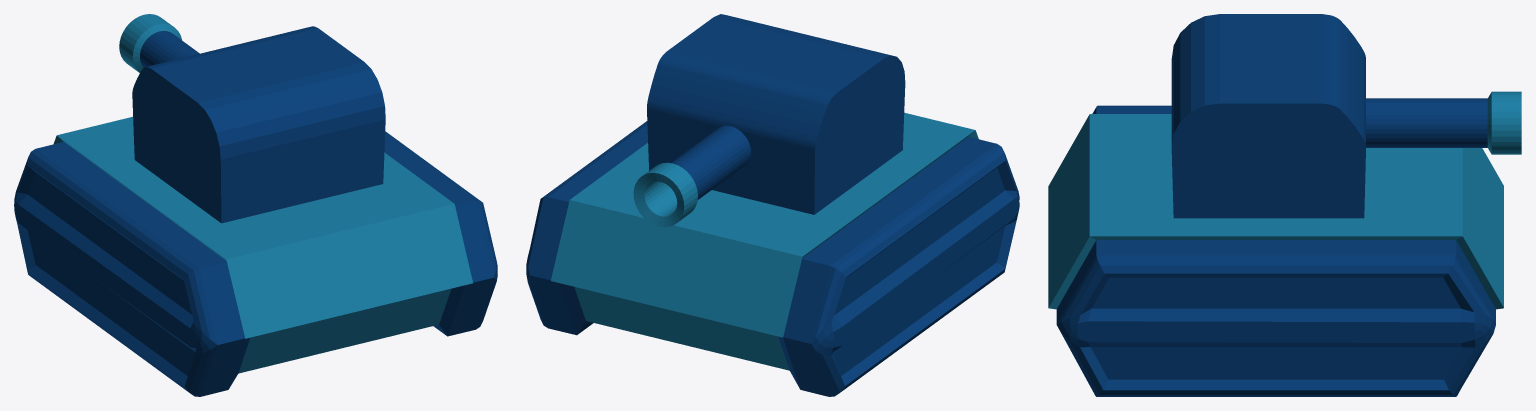
File: TankPlayer.fbx
3 views of the same model, side by side, from view 1: azimuth 30°, elevation 25°; view 2: azimuth 150°, elevation 25°; view 3: azimuth 270°, elevation 25° (orthographic). The views are drawn at different scales.
Visible parts, largest first — view 1: chasis, torreta; view 2: chasis, torreta; view 3: chasis, torreta.
Boxes of the visible parts, left/top/right/bottom form: chasis: left=14, top=116, right=497, bottom=396; torreta: left=119, top=14, right=385, bottom=223; chasis: left=526, top=112, right=1019, bottom=396; torreta: left=633, top=14, right=905, bottom=227; chasis: left=1048, top=105, right=1503, bottom=396; torreta: left=1171, top=14, right=1521, bottom=218.
Bounding box in the file's own units: 1498 × 1121 × 1826.
1 material, 1 textured.
